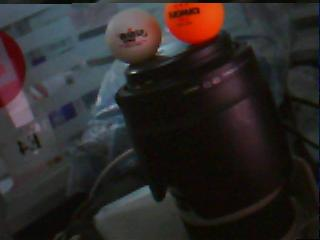oball: (164, 1, 224, 45)
